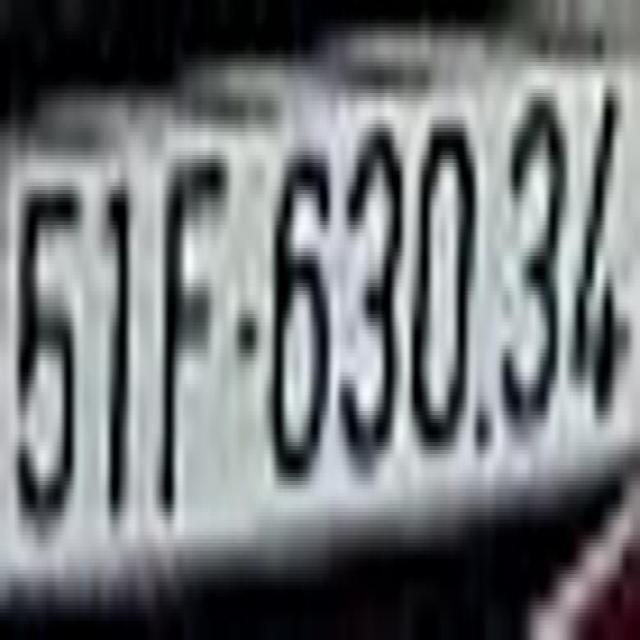0: (413, 108, 476, 466)
1: (98, 175, 134, 528)
3: (498, 78, 564, 442), (340, 97, 394, 450)
4: (572, 62, 630, 434)
5: (14, 167, 87, 547)
6: (272, 128, 336, 481)
F: (158, 132, 232, 527)
